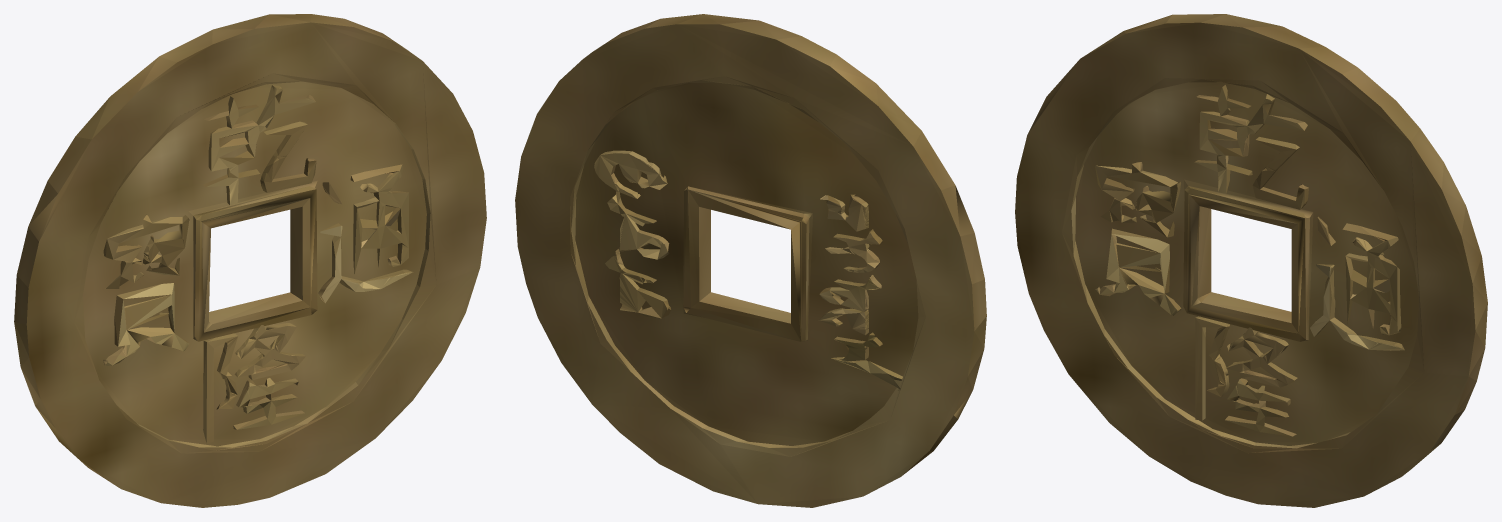
The model's file is coin.glb.
3 renders of one model, left to right at view 1: azimuth 30°, elevation 25°; view 2: azimuth 150°, elevation 25°; view 3: azimuth 330°, elevation 25°, orthographic.
Visible parts, largest first — view 1: 柱体, 文本.003, 文本.001, 文本, 文本.002; view 2: 柱体, 文本.005, 文本.004; view 3: 柱体, 文本.003, 文本.001, 文本.002, 文本.
Part boxes in pixels (bbox=[...]): 柱体: bbox=[14, 14, 486, 507]; 文本.003: bbox=[103, 214, 189, 365]; 文本.001: bbox=[203, 323, 305, 443]; 文本: bbox=[203, 85, 316, 205]; 文本.002: bbox=[318, 164, 412, 303]; 柱体: bbox=[515, 14, 986, 507]; 文本.005: bbox=[594, 150, 670, 318]; 文本.004: bbox=[819, 194, 902, 390]; 柱体: bbox=[1015, 14, 1487, 507]; 文本.003: bbox=[1095, 162, 1181, 315]; 文本.001: bbox=[1195, 316, 1297, 436]; 文本.002: bbox=[1310, 216, 1404, 350]; 文本: bbox=[1194, 85, 1308, 209].
Bounding box in the file's own units: 0.671 × 0.6585 × 0.0346.
1 material, 1 textured.
